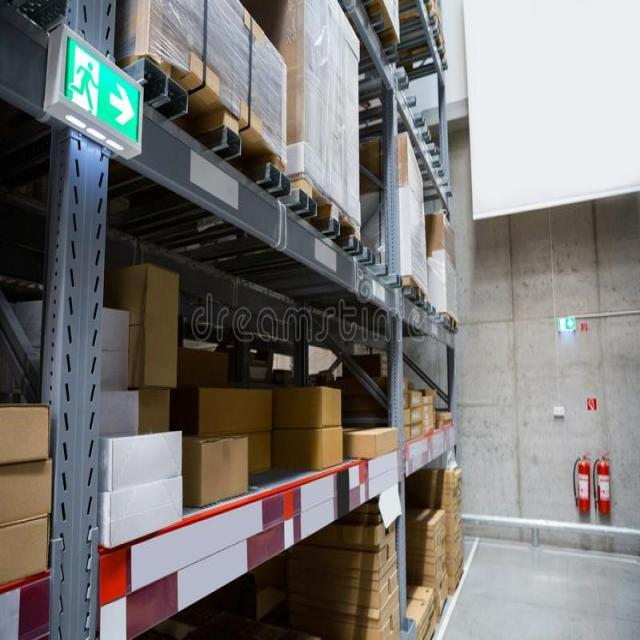fire_extinguisher: (570, 447, 594, 516), (591, 446, 613, 515)
